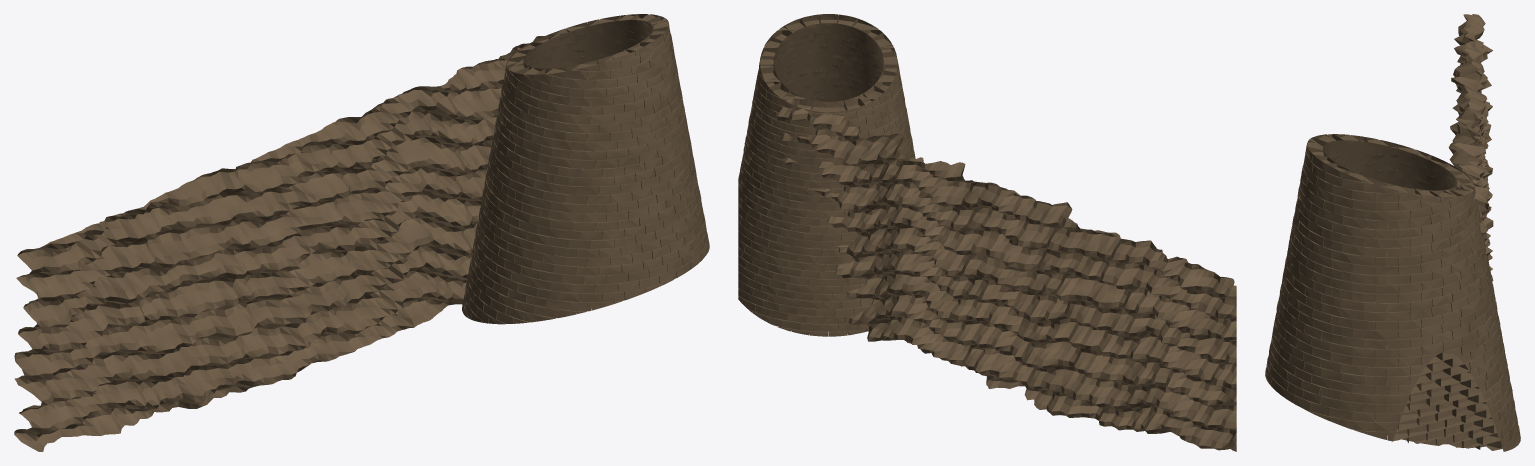
Rendered from temple06_lod1.glb.
3 views of the same model, side by side, from view 1: azimuth 30°, elevation 25°; view 2: azimuth 150°, elevation 25°; view 3: azimuth 270°, elevation 25° (orthographic). The views are drawn at different scales.
Parts seen in each view (by area): view 1: TEMPLE06_original_v5.001; view 2: TEMPLE06_original_v5.001; view 3: TEMPLE06_original_v5.001.
Part boxes in pixels (x1,y1,x2,y2): TEMPLE06_original_v5.001: [14, 14, 709, 451]; TEMPLE06_original_v5.001: [738, 14, 1236, 451]; TEMPLE06_original_v5.001: [1265, 14, 1520, 451].
Bounding box in the file's own units: 10.95 × 5.45 × 3.71.
